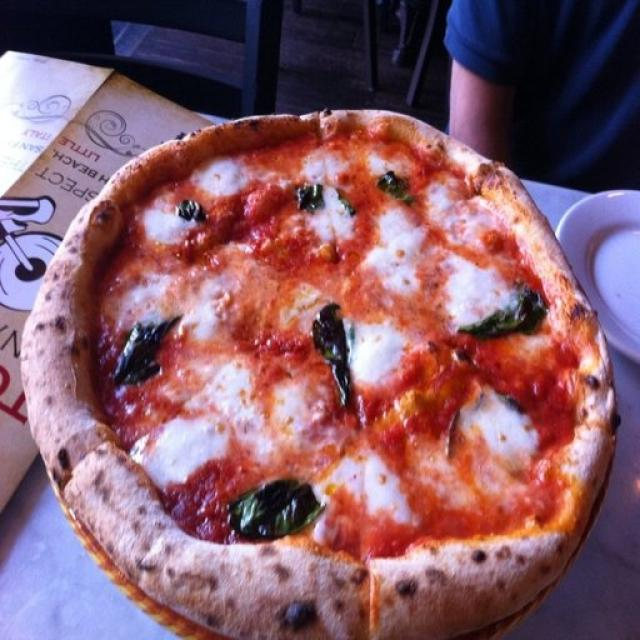Basil: (104, 306, 184, 384), (302, 299, 357, 409), (231, 479, 329, 537), (460, 290, 542, 342), (374, 168, 414, 208), (168, 193, 212, 228), (340, 196, 376, 229), (288, 186, 324, 212)
Cheese: (134, 369, 266, 482), (105, 262, 244, 342), (448, 379, 552, 473), (322, 331, 419, 404), (435, 258, 528, 330), (350, 213, 425, 299), (274, 368, 328, 461), (421, 180, 496, 246), (335, 458, 417, 518), (194, 150, 287, 196), (141, 186, 197, 256), (299, 187, 361, 247), (358, 144, 420, 182), (306, 146, 349, 188)
Pizza: (22, 111, 616, 640)
